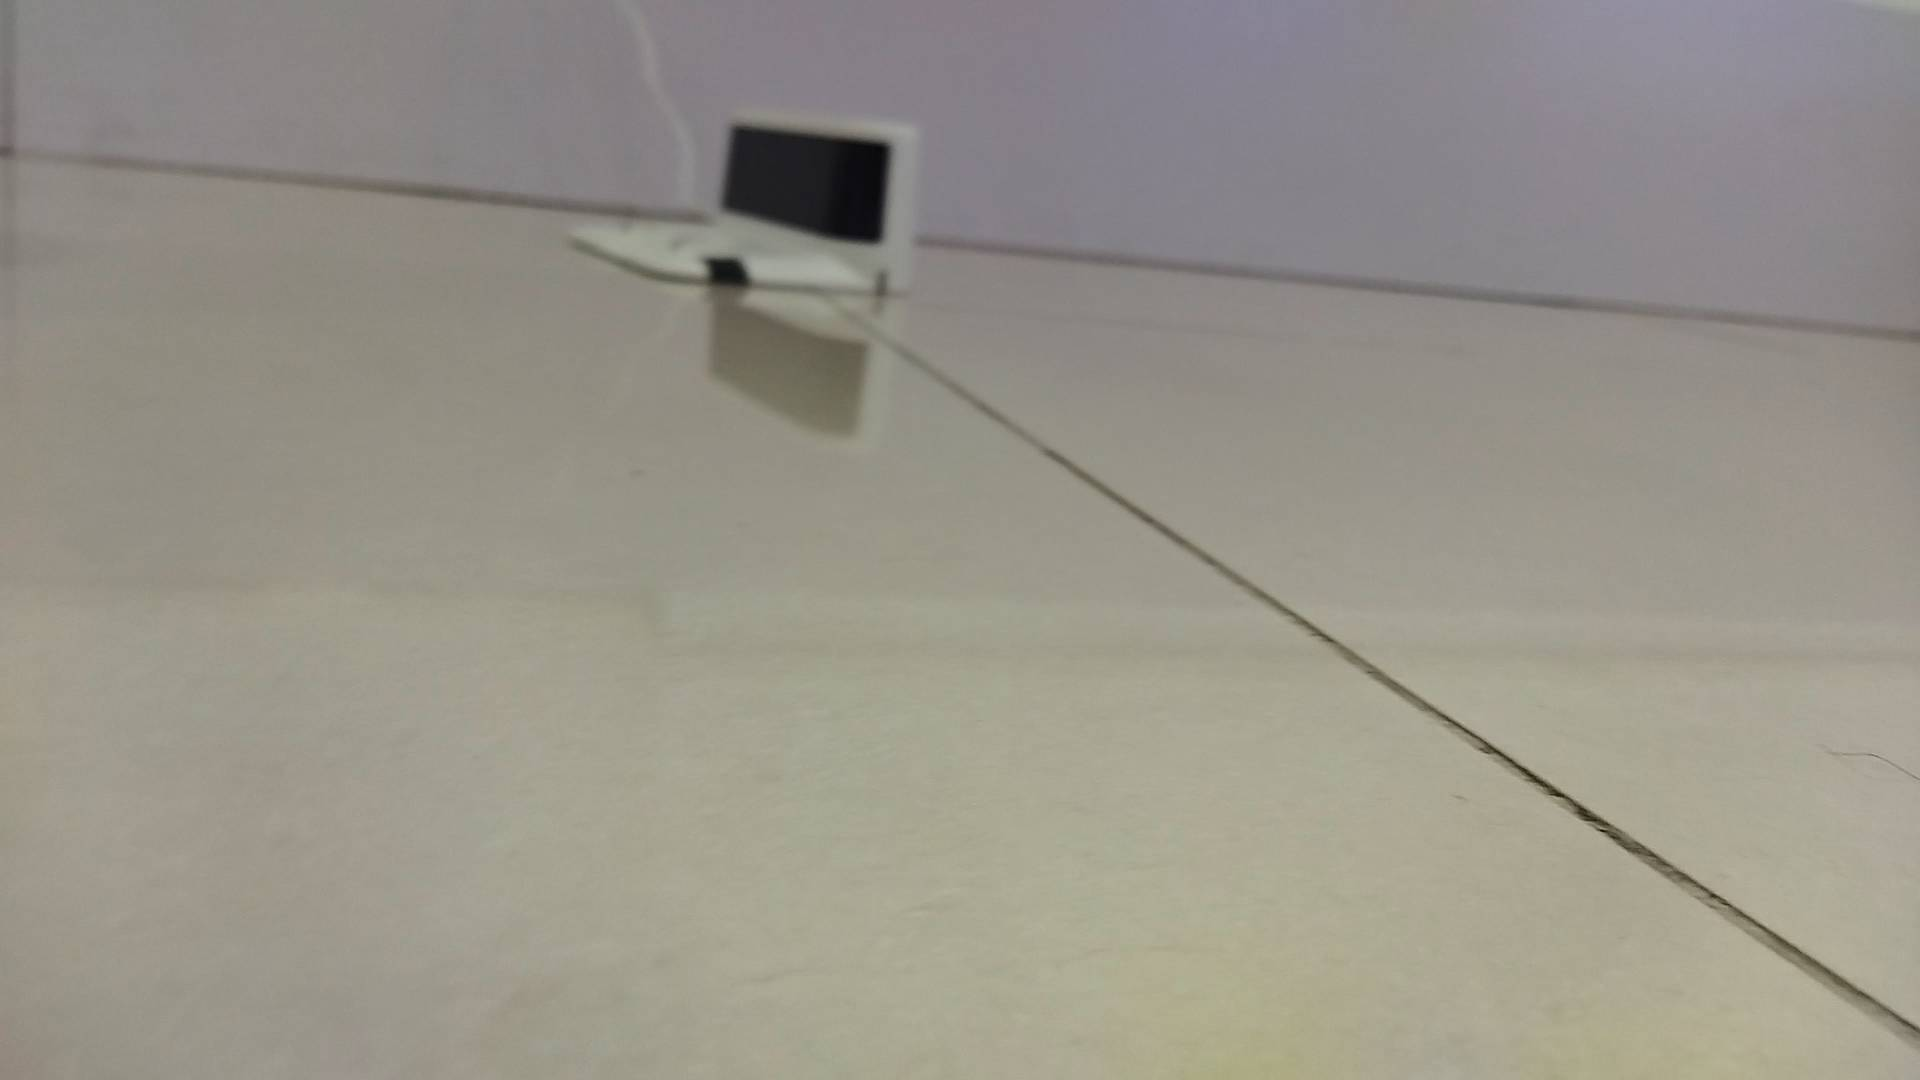recharge seat: (564, 111, 919, 297)
